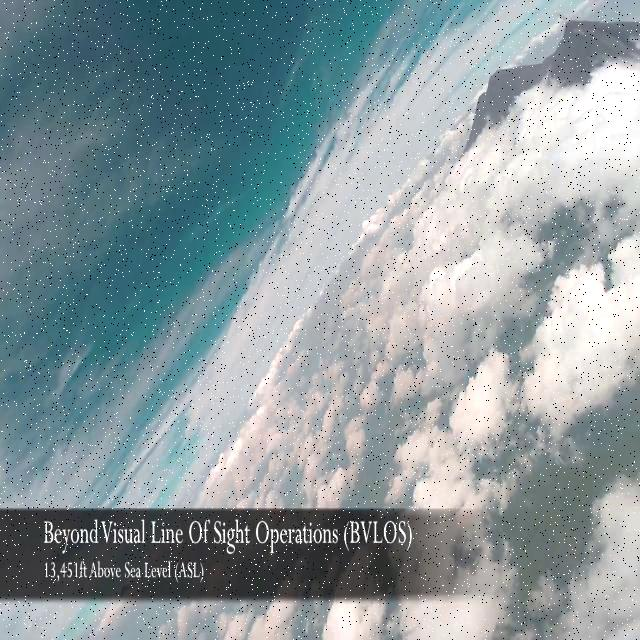Summit: (552, 11, 606, 54)
